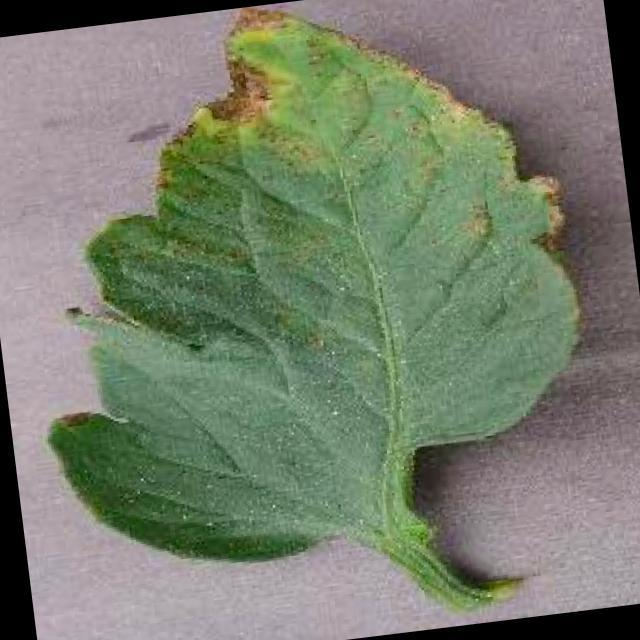Tomato bacterial spot leaf: (0, 0, 612, 591)
